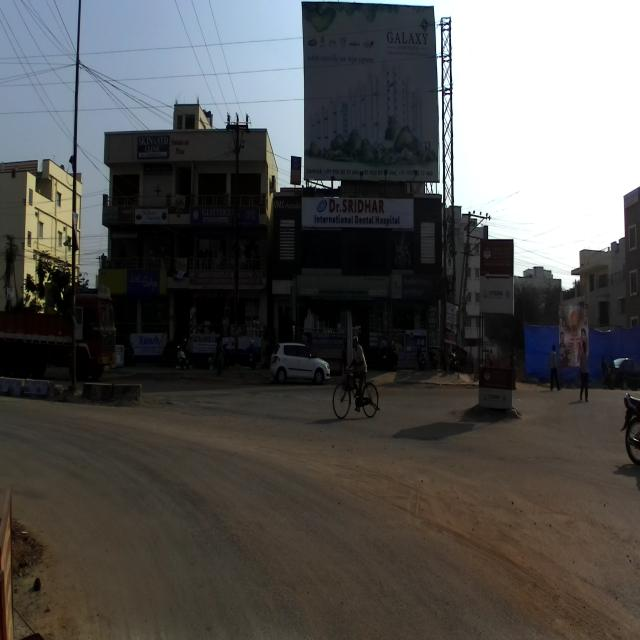barrier ahead at: (472, 230, 520, 419)
bicycle ahead at: (332, 367, 384, 427)
car ahead at: (272, 337, 331, 390)
